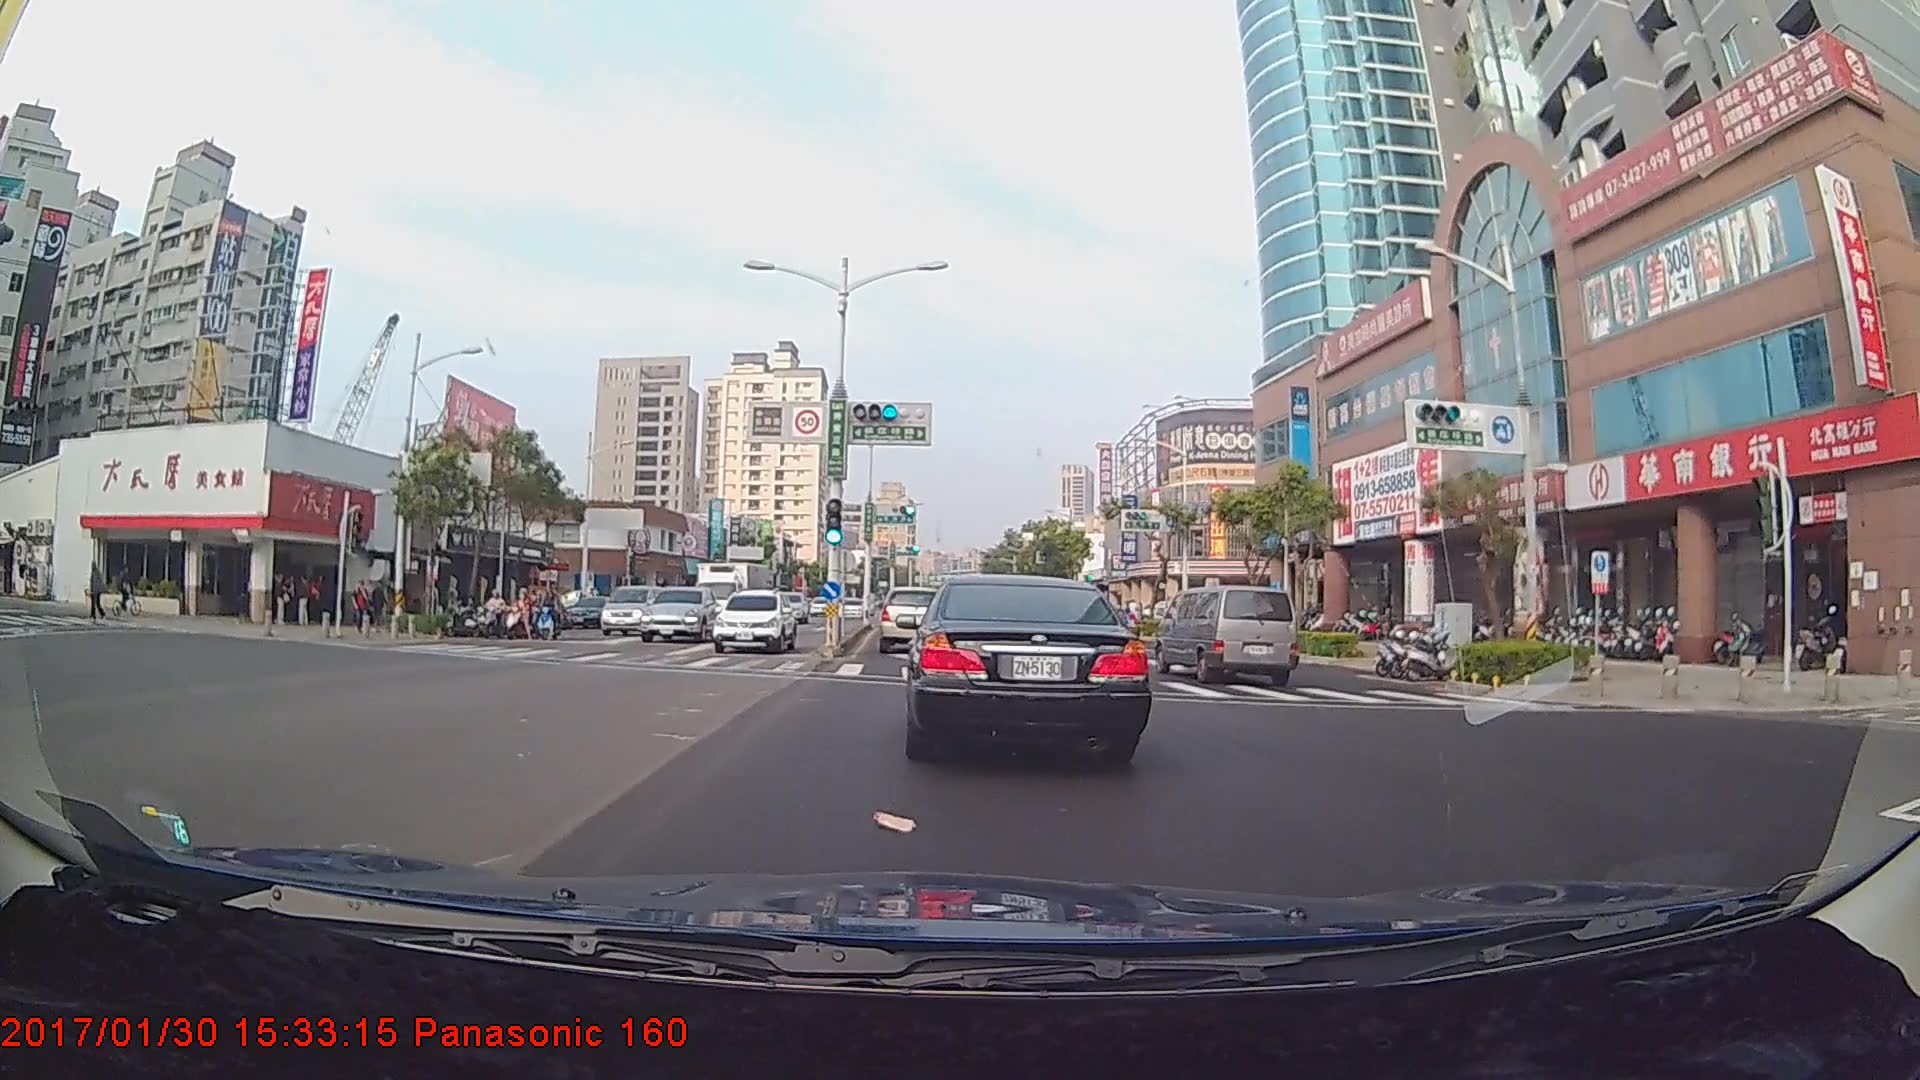pedestrian: (86, 558, 107, 623), (347, 579, 371, 635), (269, 571, 289, 631), (292, 576, 313, 629)
rider: (525, 584, 565, 644), (496, 587, 530, 641), (473, 589, 508, 642)
vehicle: (905, 568, 1146, 762), (1157, 581, 1299, 689), (698, 557, 778, 637), (711, 588, 799, 654), (875, 583, 946, 655), (635, 586, 716, 644), (595, 582, 660, 637)
